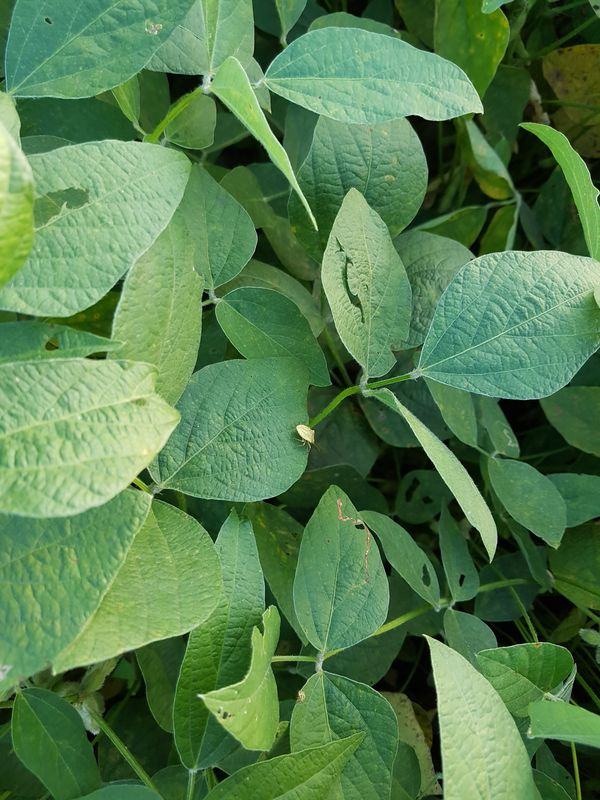Euschistus_heros_ninfa: (285, 417, 322, 453)
